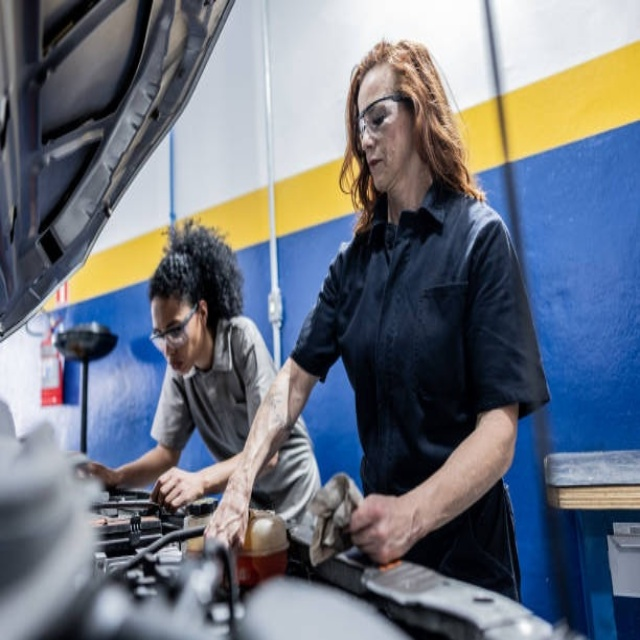Gafas: (358, 93, 411, 141), (149, 302, 199, 344)
Sin_guantes: (347, 482, 414, 568), (206, 475, 253, 553), (148, 458, 203, 515)
Sin_mascara: (364, 149, 393, 191), (164, 351, 189, 380)
